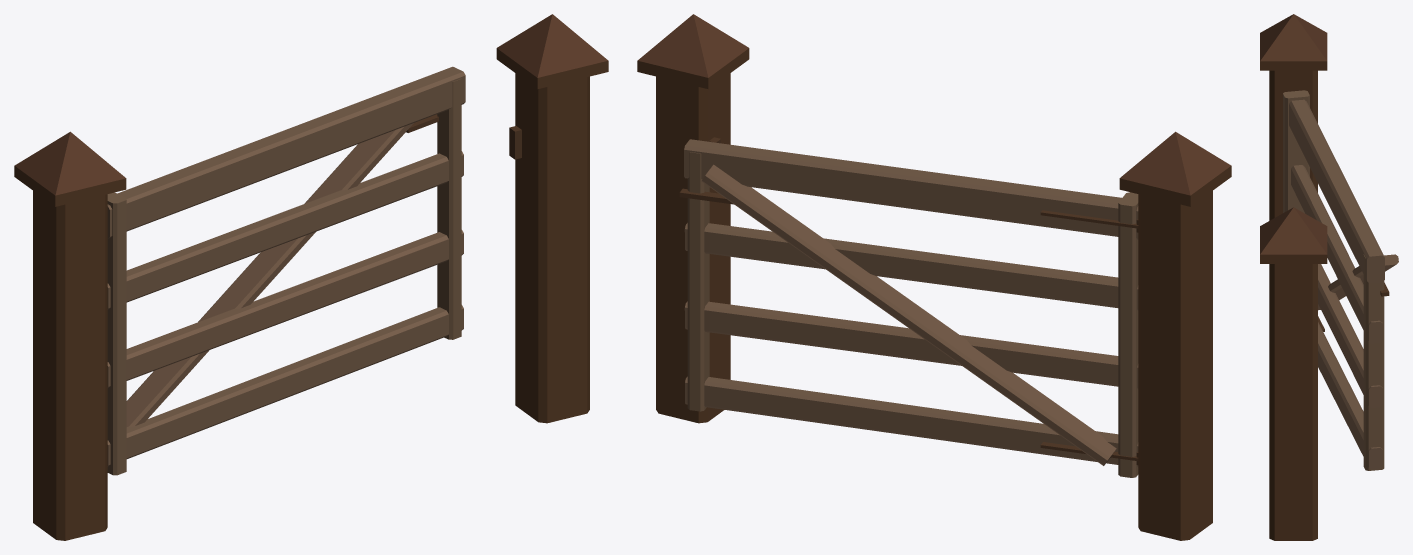
Rendered from prop_farm_gate_a.glb.
The picture shows the model from 3 angles, left to right: view 1: azimuth 30°, elevation 25°; view 2: azimuth 150°, elevation 25°; view 3: azimuth 270°, elevation 25°; orthographic projection. The views are drawn at different scales.
Parts seen in each view (by area): view 1: prop_farm_gate_a_mesh; view 2: prop_farm_gate_a_mesh; view 3: prop_farm_gate_a_mesh.
Part boxes in pixels (bbox=[...]): prop_farm_gate_a_mesh: bbox=[14, 14, 608, 540]; prop_farm_gate_a_mesh: bbox=[637, 14, 1231, 540]; prop_farm_gate_a_mesh: bbox=[1260, 14, 1398, 540].
Bounding box in the file's own units: 2.06 × 1.4 × 0.5466.
